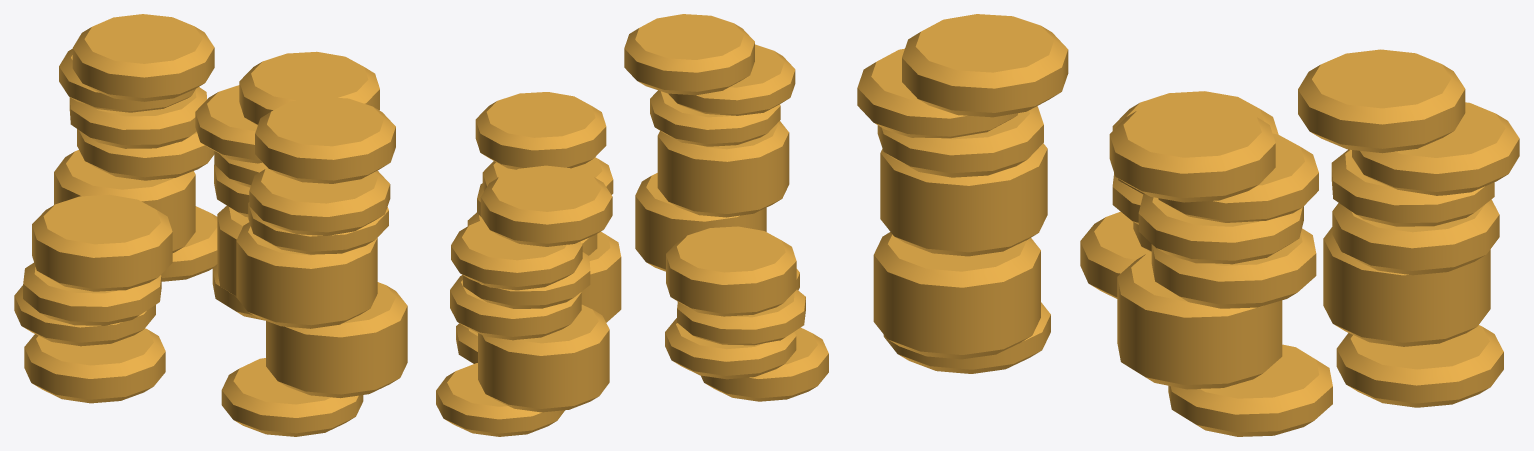
File: coin.glb
3 renders of one model, left to right at view 1: azimuth 30°, elevation 25°; view 2: azimuth 150°, elevation 25°; view 3: azimuth 270°, elevation 25°, orthographic. The views are drawn at different scales.
Visible parts, largest first — view 1: Prop_Coins; view 2: Prop_Coins; view 3: Prop_Coins.
Boxes of the visible parts, box(x1,y1,x2,y2) form: Prop_Coins: box(14, 14, 407, 436); Prop_Coins: box(436, 14, 828, 436); Prop_Coins: box(857, 14, 1519, 436).
Bounding box in the file's own units: 0.4567 × 0.3439 × 0.6354.
Materials: 1 (1 with a texture image).
